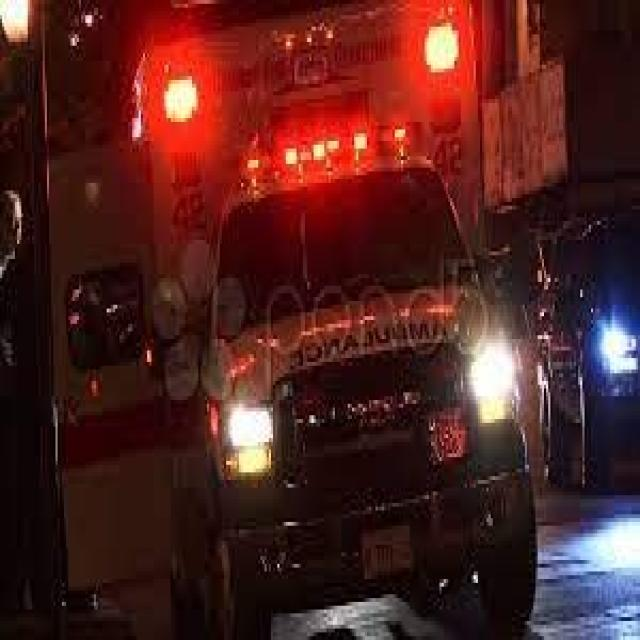ambulance: (158, 21, 478, 142)
